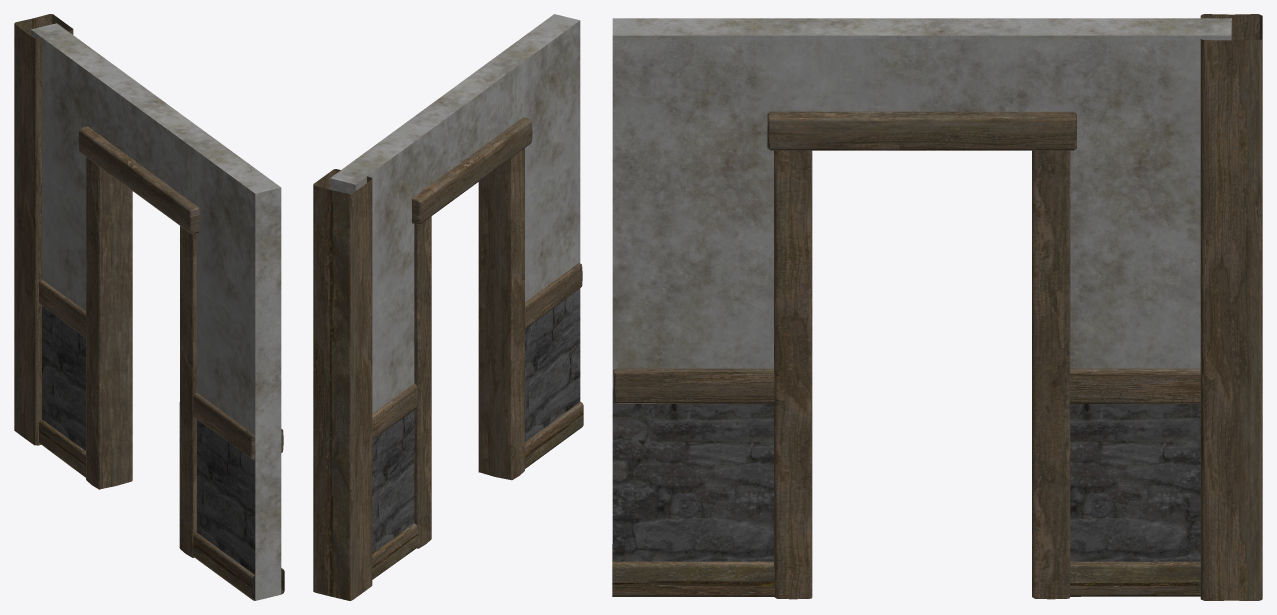
The model's file is SM_WallDoorway03.fbx.
3 renders of one model, left to right at view 1: azimuth 30°, elevation 25°; view 2: azimuth 150°, elevation 25°; view 3: azimuth 270°, elevation 25°, orthographic. The views are drawn at different scales.
Parts seen in each view (by area): view 1: SM_WallDoorway03_LOD0; view 2: SM_WallDoorway03_LOD0; view 3: SM_WallDoorway03_LOD0.
Part boxes in pixels (<box>): SM_WallDoorway03_LOD0: <box>14,14,284,600</box>; SM_WallDoorway03_LOD0: <box>313,14,583,600</box>; SM_WallDoorway03_LOD0: <box>612,14,1262,600</box>.
Bounding box in the file's own units: 33.56 × 315 × 300.
